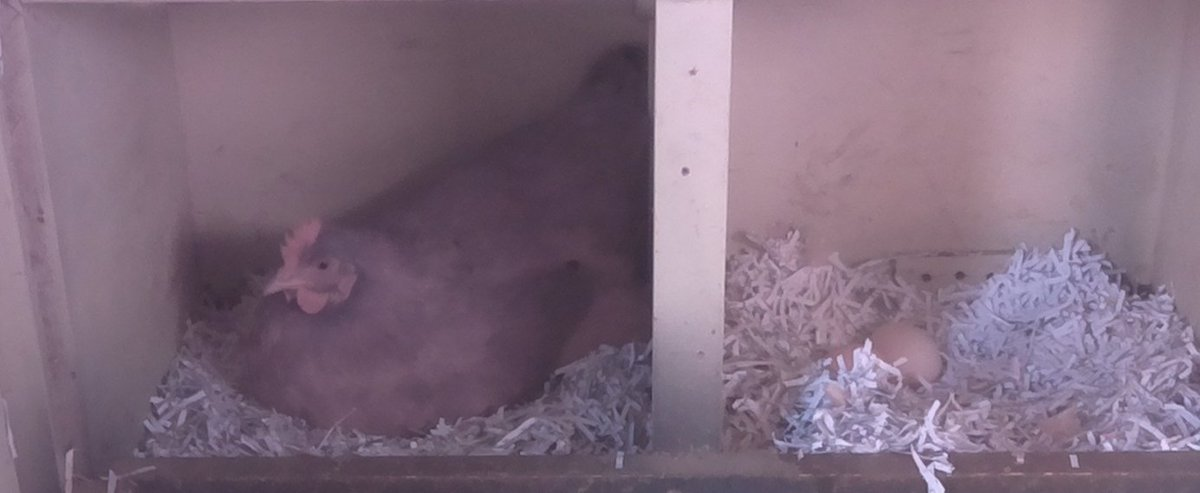egg: (865, 317, 945, 386)
hen: (241, 42, 650, 440)
